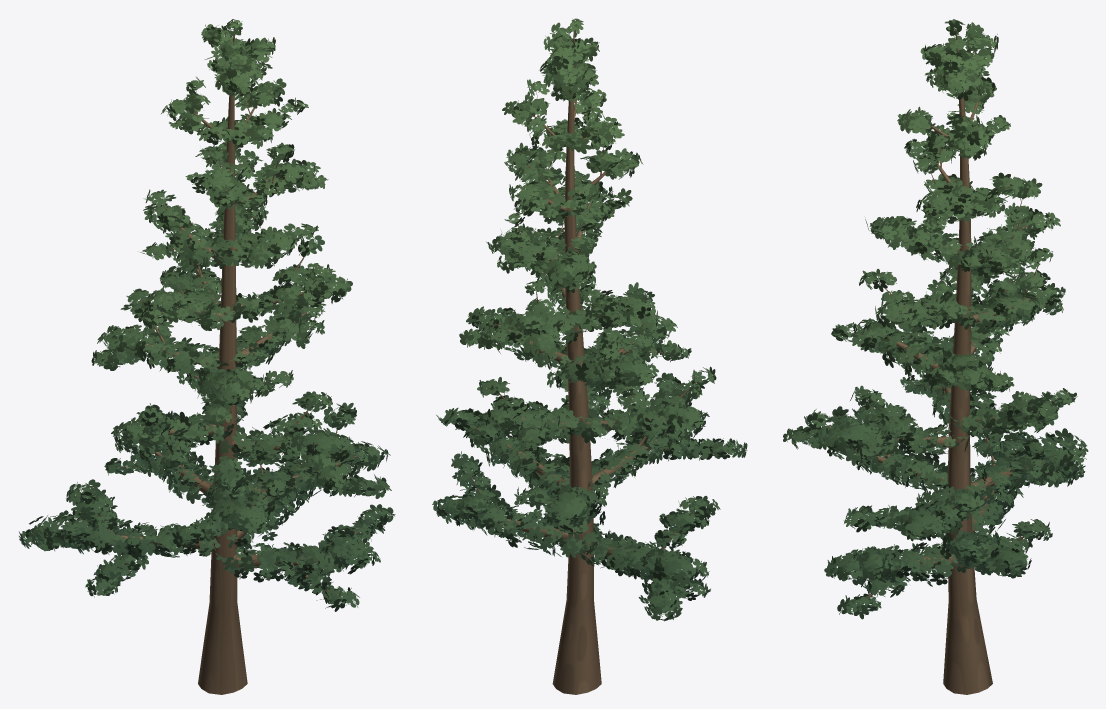
Rendered from tree.gltf.
The picture shows the model from 3 angles, left to right: view 1: azimuth 30°, elevation 25°; view 2: azimuth 150°, elevation 25°; view 3: azimuth 270°, elevation 25°; orthographic projection.
Visible parts, largest first — view 1: Tree_LOD0; view 2: Tree_LOD0; view 3: Tree_LOD0.
Boxes of the visible parts, bbox=[...] form: Tree_LOD0: bbox=[19, 19, 395, 694]; Tree_LOD0: bbox=[432, 18, 747, 694]; Tree_LOD0: bbox=[783, 19, 1088, 694].
Size of the model in its own units: 11.2 by 23.21 by 9.74.
2 materials, 2 textured.
